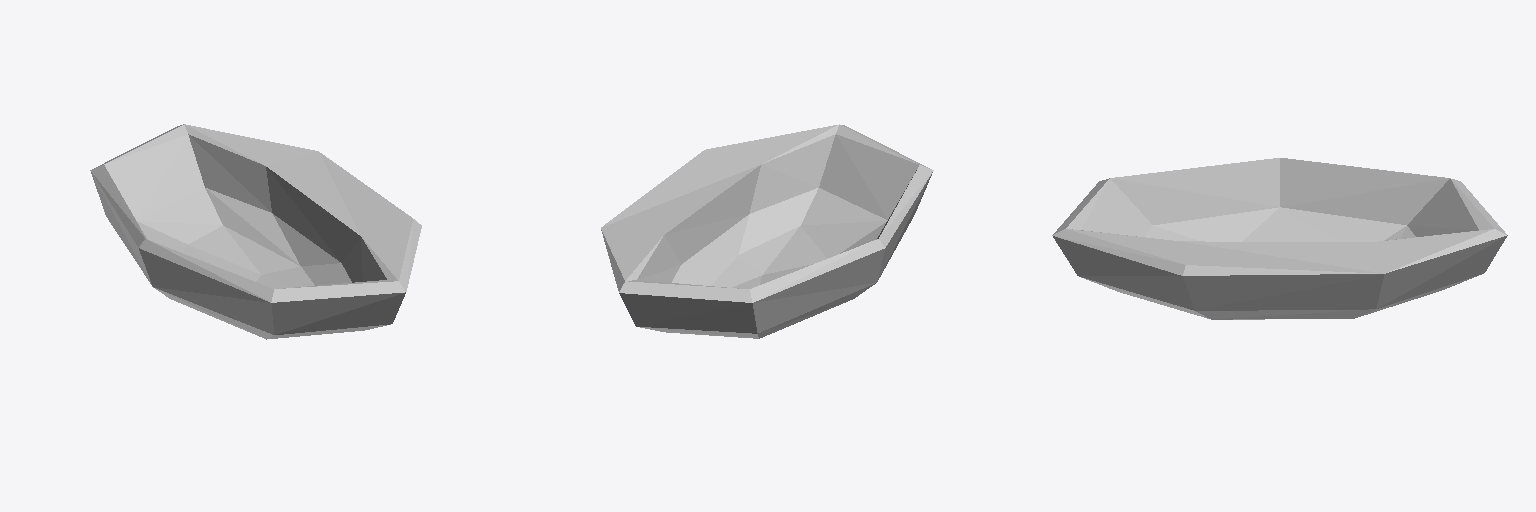
Rendered from sink1.obj.
3 renders of one model, left to right at view 1: azimuth 30°, elevation 25°; view 2: azimuth 150°, elevation 25°; view 3: azimuth 270°, elevation 25°, orthographic.
Bounding box in the file's own units: 0.5846 × 0.2153 × 0.9823.